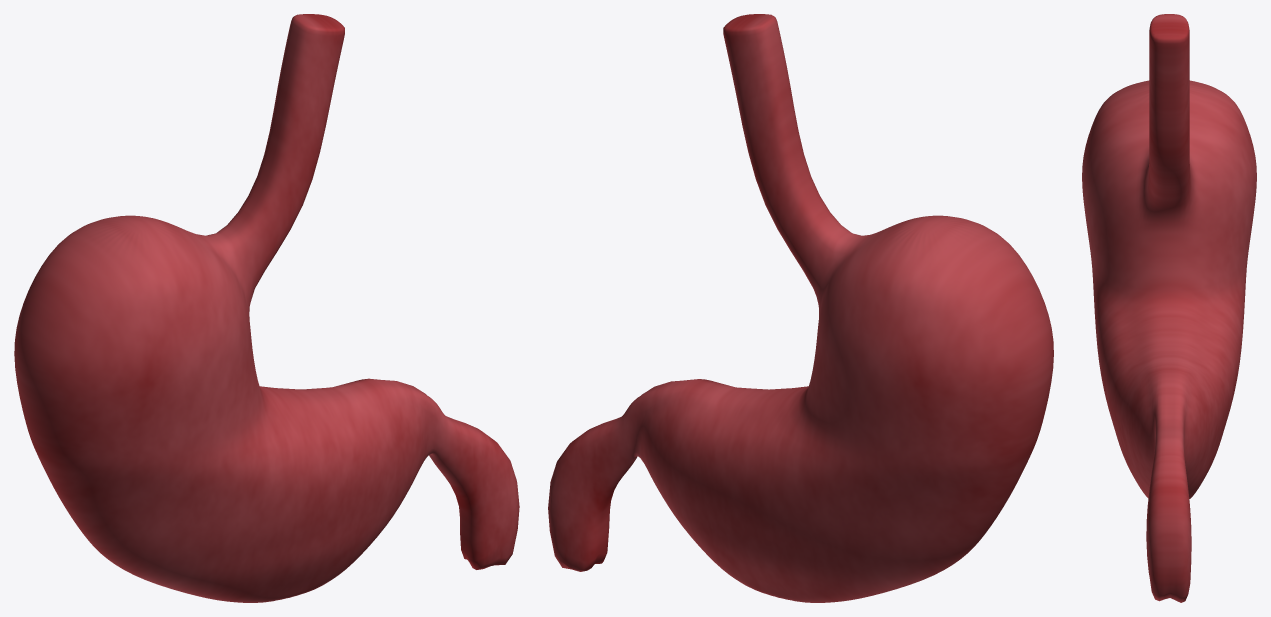
File: organ1.glb
3 views of the same model, side by side, from view 1: azimuth 30°, elevation 25°; view 2: azimuth 150°, elevation 25°; view 3: azimuth 270°, elevation 25° (orthographic). The views are drawn at different scales.
Visible parts, largest first — view 1: Cylinder.005; view 2: Cylinder.005; view 3: Cylinder.005.
Boxes of the visible parts, x1,y1,x2,y2 form: Cylinder.005: (14, 14, 519, 602); Cylinder.005: (548, 14, 1053, 602); Cylinder.005: (1082, 14, 1256, 602).
Bounding box in the file's own units: 0.7156 × 0.8272 × 0.2589.
Materials: 1 (1 with a texture image).
